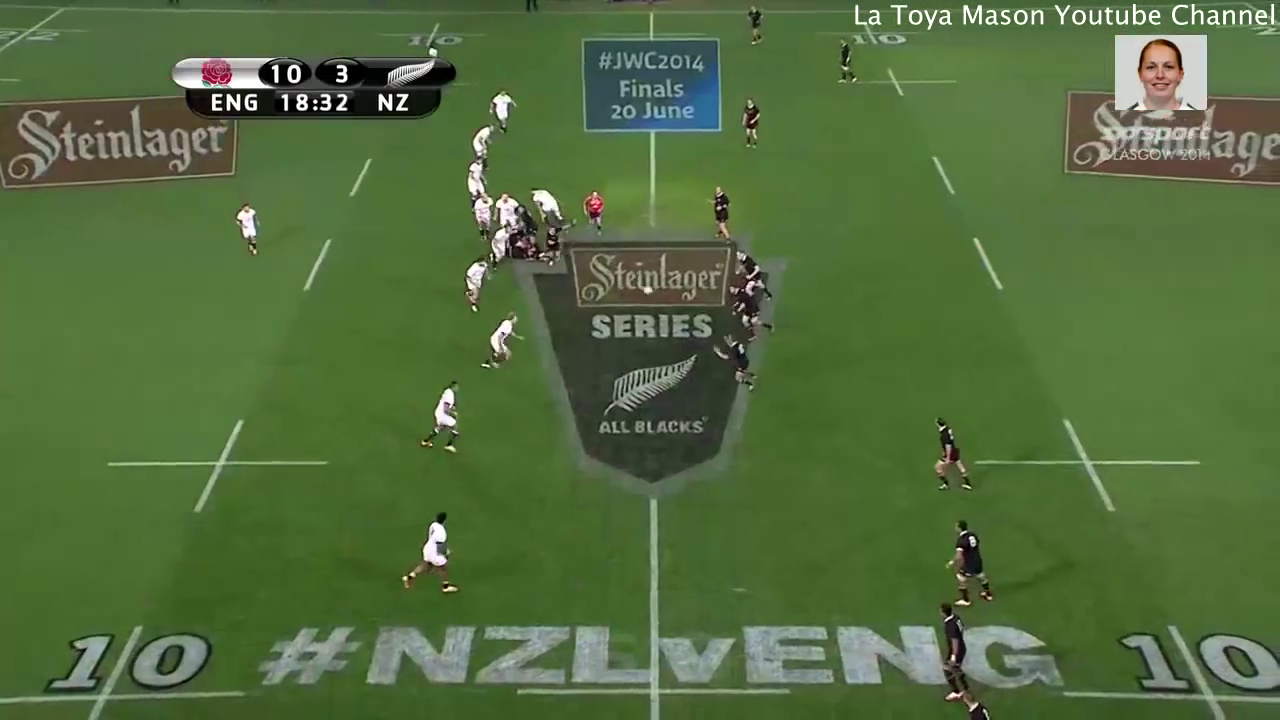10_metre: (1, 618, 255, 720), (971, 411, 1206, 514), (1051, 616, 1280, 720), (99, 415, 331, 517), (852, 63, 962, 98), (375, 22, 488, 51), (817, 20, 924, 45)
player: (926, 601, 985, 710), (395, 509, 462, 597), (938, 517, 998, 610), (921, 406, 979, 500), (417, 376, 463, 455), (711, 332, 762, 394), (725, 283, 775, 342), (479, 310, 526, 371), (731, 248, 777, 302), (537, 213, 579, 267), (705, 185, 737, 248), (484, 86, 519, 140), (232, 202, 262, 259), (461, 251, 488, 314), (578, 186, 611, 236), (736, 94, 763, 153), (528, 183, 565, 220), (462, 157, 491, 204), (833, 36, 859, 87), (466, 191, 493, 240), (957, 688, 996, 720), (472, 123, 498, 171), (742, 2, 769, 48), (490, 223, 513, 273), (493, 189, 521, 228)
ruck: (488, 211, 550, 263)
